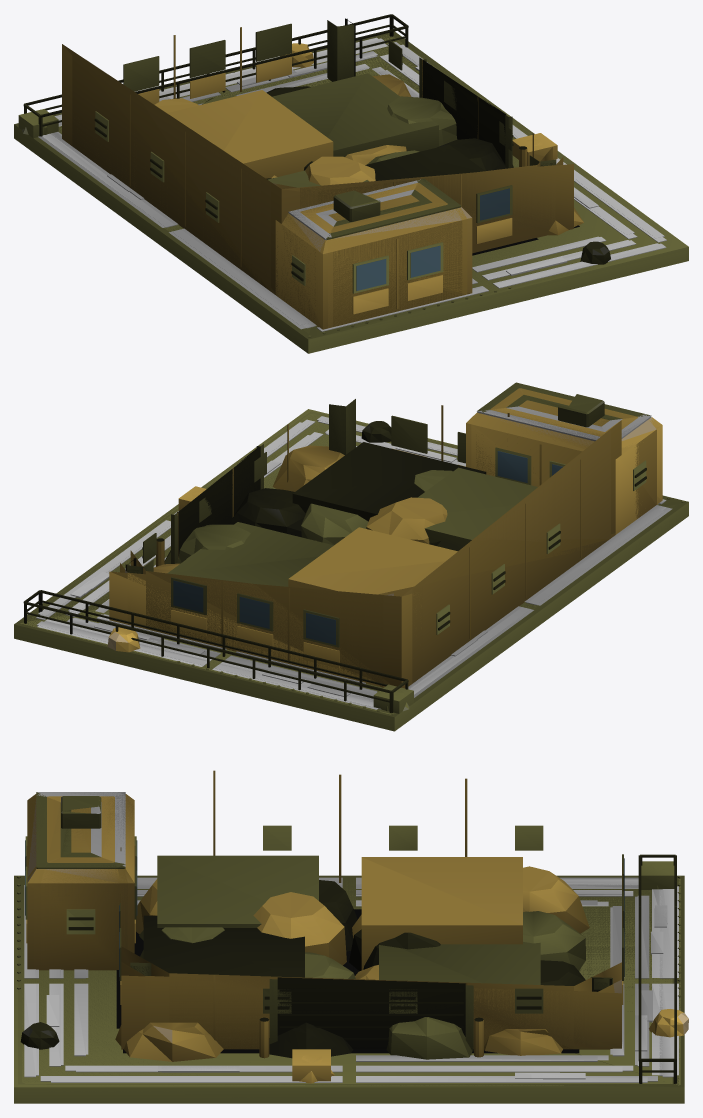
The model's file is meridian_vehicle_factory_heavily_damaged.glb.
3 views of the same model, one above another, from view 1: azimuth 30°, elevation 25°; view 2: azimuth 150°, elevation 25°; view 3: azimuth 270°, elevation 25° (orthographic). The views are drawn at different scales.
Visible parts, largest first — view 1: body (×3); view 2: body (×3); view 3: body (×3).
Part boxes in pixels (x1=…): body (×3): x1=14, y1=14, x2=688, y2=353; body (×3): x1=14, y1=382, x2=688, y2=731; body (×3): x1=14, y1=770, x2=688, y2=1103.
Bounding box in the file's own units: 11.28 × 3.52 × 15.1.
